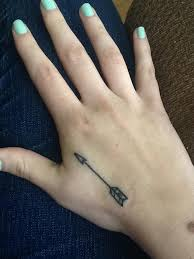hand: (1, 0, 189, 239)
